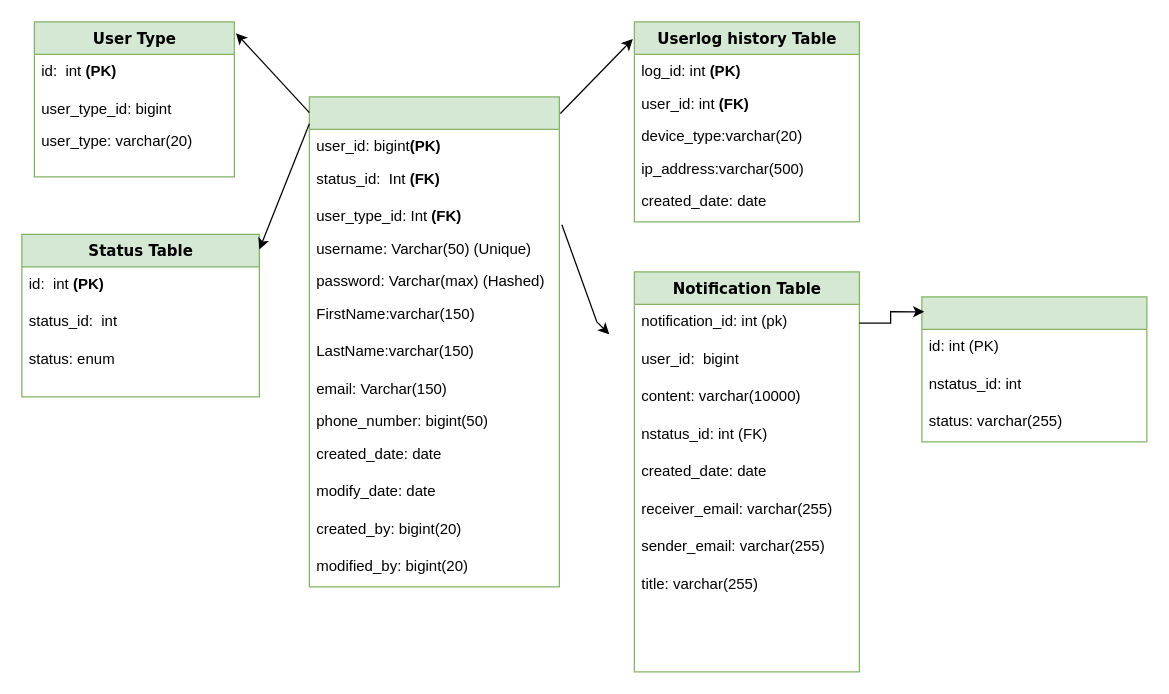
This 1169x694 diagram has some shape labels left out. The shapes that lost their labels are listed below. From the top down, each one's box as (x1, y1, x2, y2) in pixels, then its label:
(308, 96, 559, 587): UserTable
(921, 296, 1147, 442): Notification Status Table
